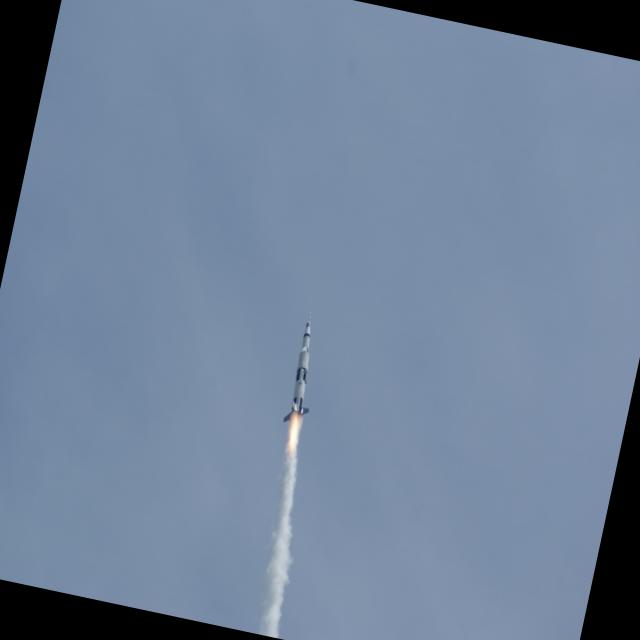rocket: (246, 311, 334, 592)
